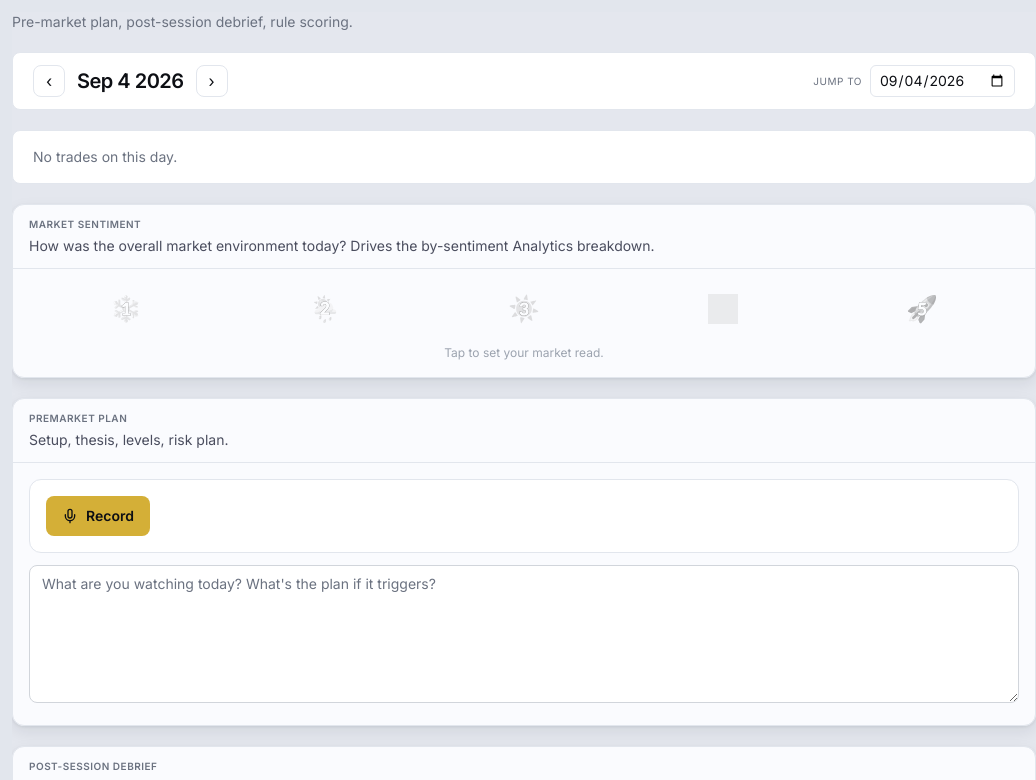
Test: Journal — recording-metadata line (premarket states) › text only → "N words" (no duration, no separator)
The width and height of the screenshot is (1036, 780).
In the text box with placeholder "What are you watching": (524, 634) [29,565,1019,703], type "just typed text"
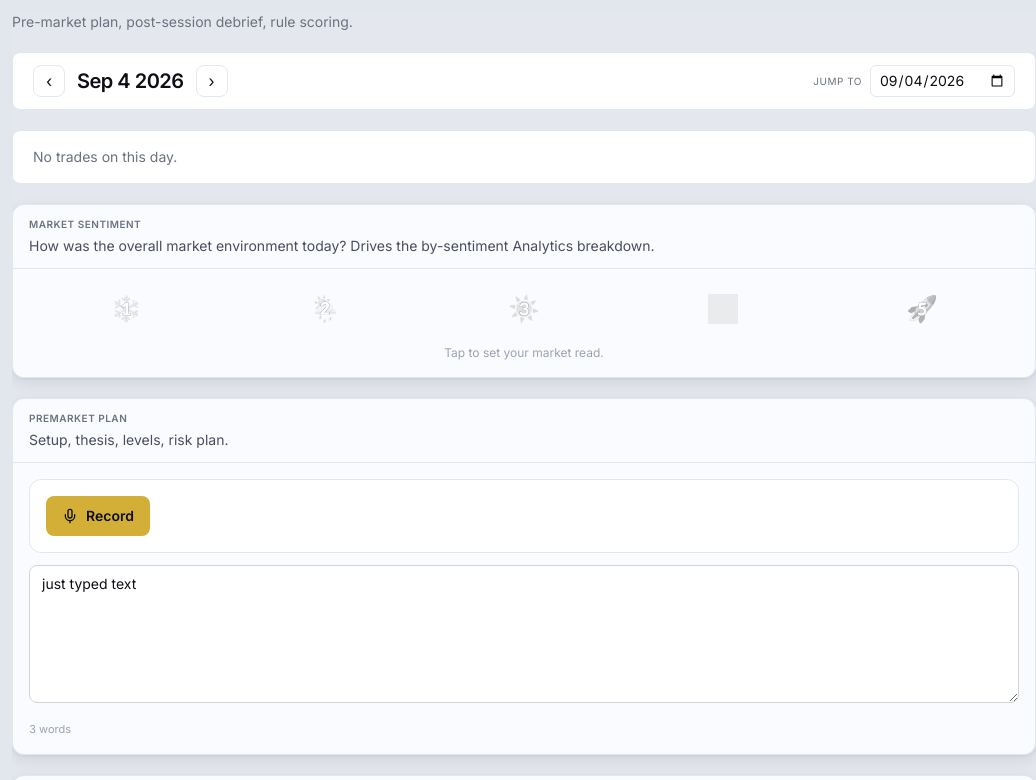
Check: the text "3 words" is shown, box [29,722,71,736]
